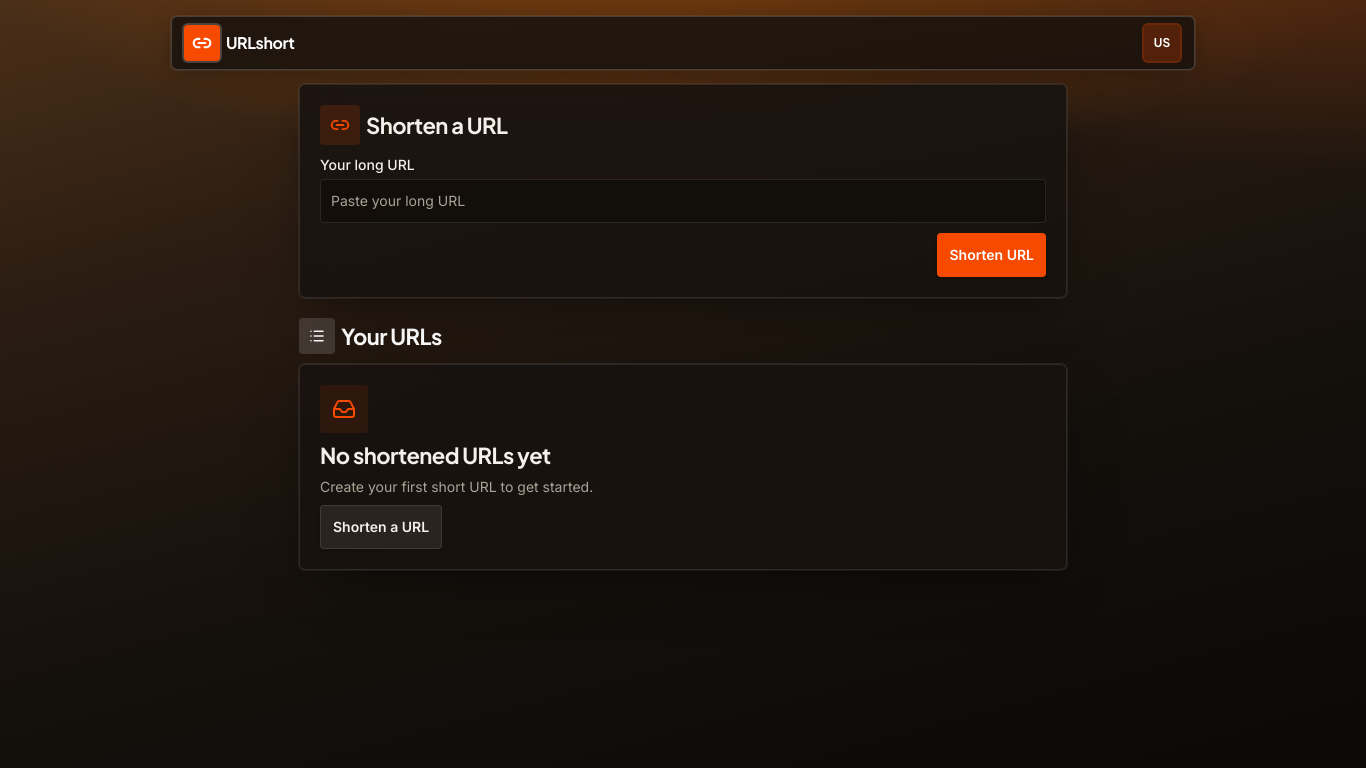
Scenario: authenticated routes › restores the session and logs out
The width and height of the screenshot is (1366, 768).
Click the button with aria-label "Account menu for user@example.com": (1162, 43) [1142,21,1182,65]
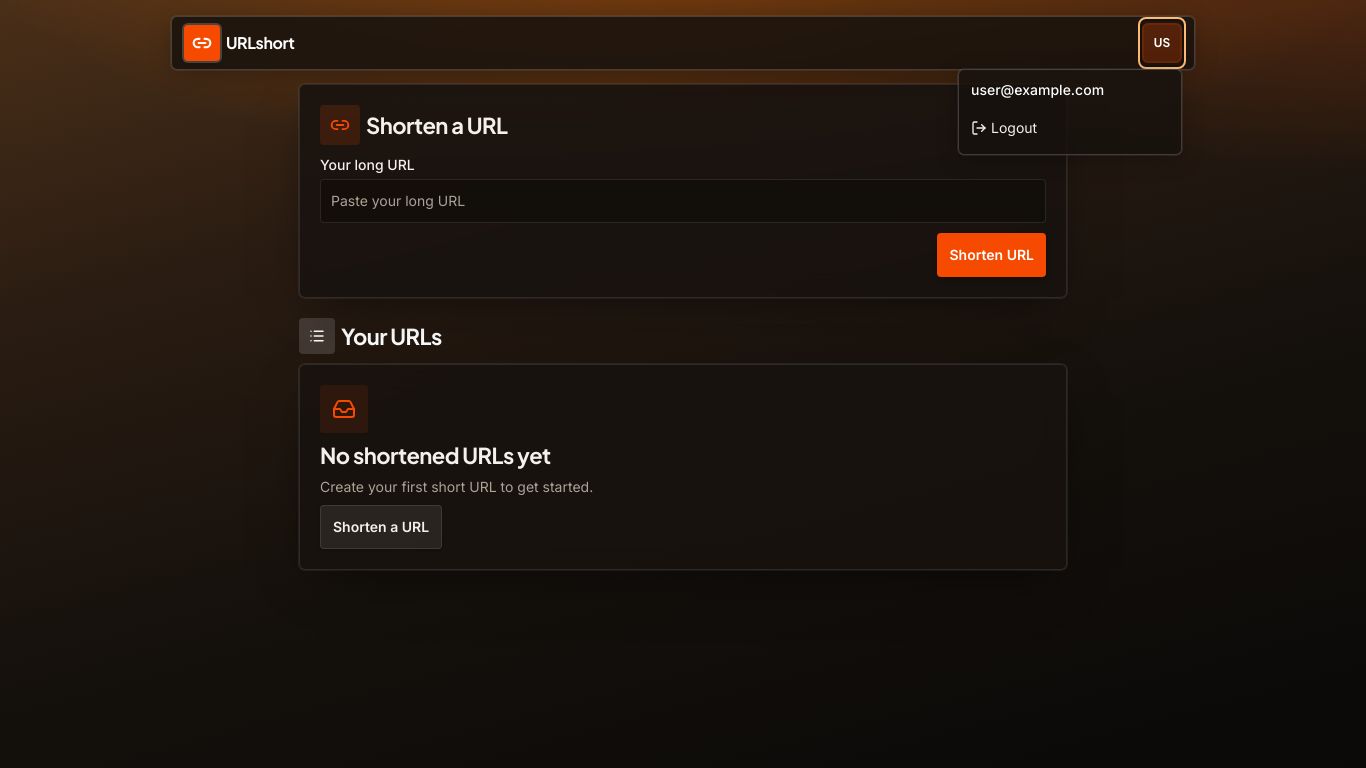
Click the menu item "Logout": (1070, 128) [963,106,1177,150]
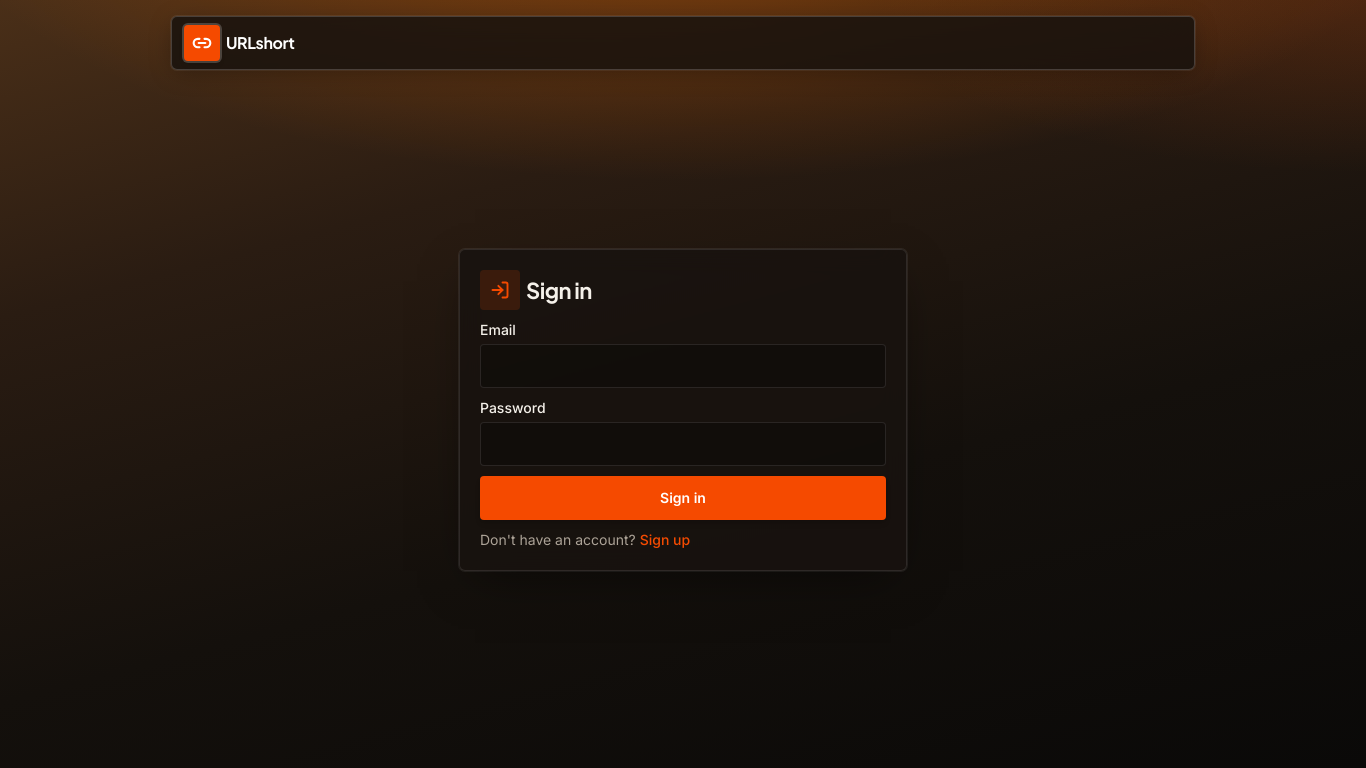
Expected: the heading "Sign in" is shown, [480,270,592,310]
